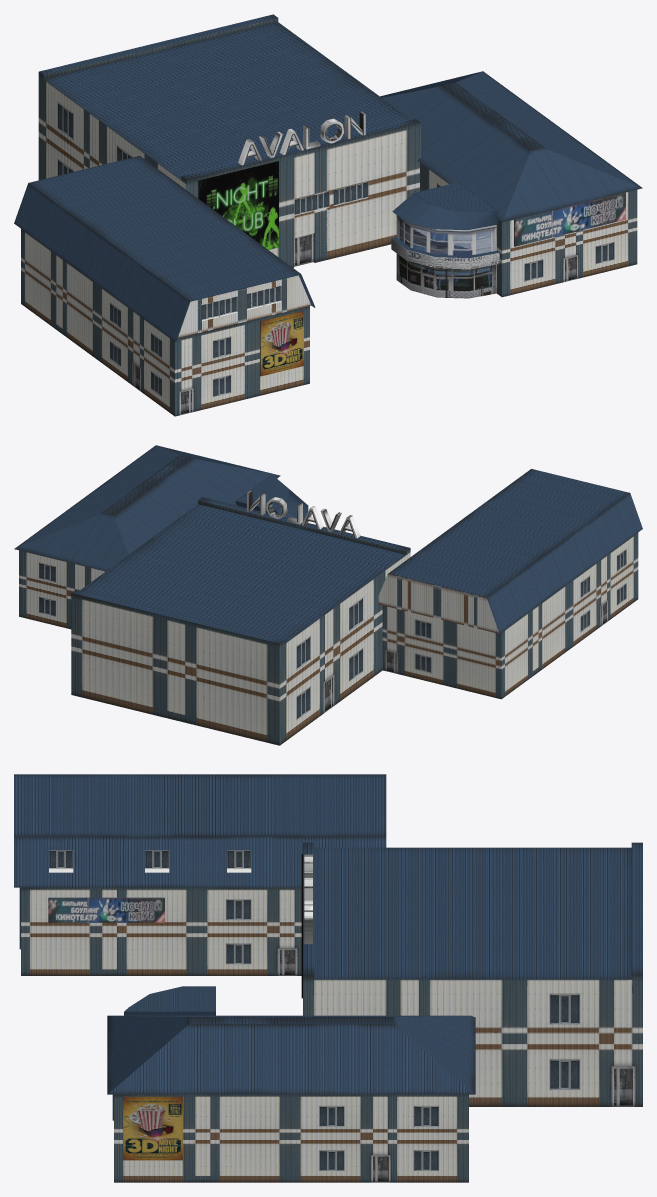
Rendered from r402_ishim_avalon.FBX.
The picture shows the model from 3 angles, top to bottom: view 1: azimuth 30°, elevation 25°; view 2: azimuth 150°, elevation 25°; view 3: azimuth 270°, elevation 25°; orthographic projection. The views are drawn at different scales.
Visible parts, largest first — view 1: r402_ishim_avalon; view 2: r402_ishim_avalon; view 3: r402_ishim_avalon.
Boxes of the visible parts, x1,y1,x2,y2 form: r402_ishim_avalon: [14, 14, 642, 416]; r402_ishim_avalon: [14, 445, 642, 745]; r402_ishim_avalon: [14, 774, 642, 1182].
Bounding box in the file's own units: 4821 × 4486 × 1233.
